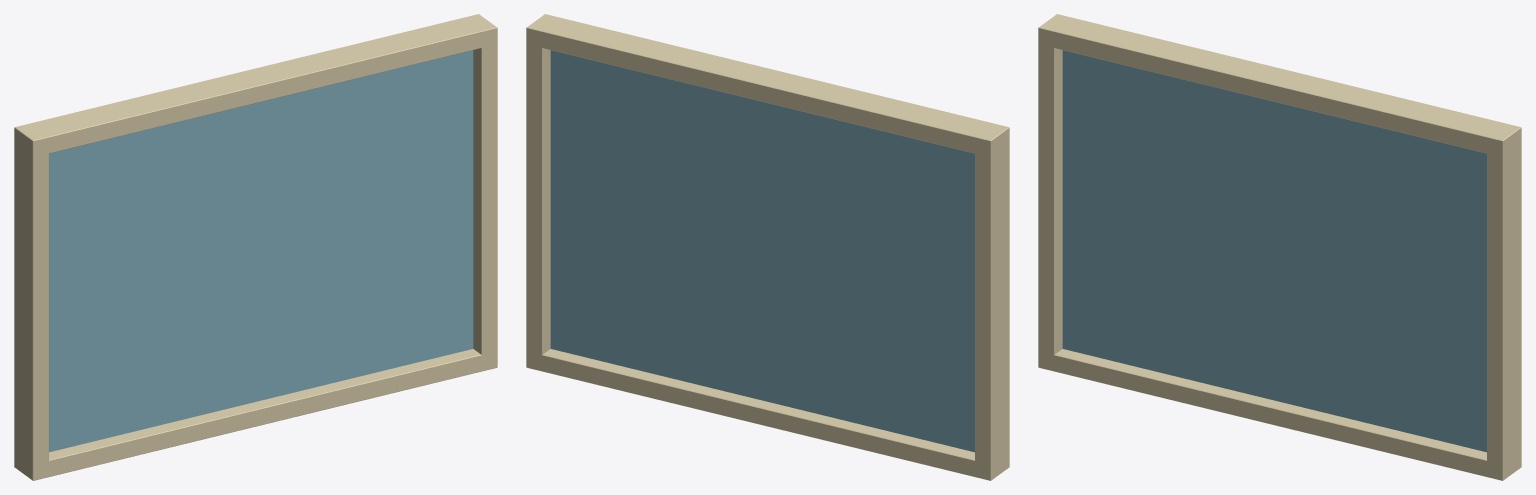
File: b21_window_fixed_2m.glb
The picture shows the model from 3 angles, left to right: view 1: azimuth 30°, elevation 25°; view 2: azimuth 150°, elevation 25°; view 3: azimuth 330°, elevation 25°; orthographic projection.
Visible parts, largest first — view 1: b21_window_fixed_2m; view 2: b21_window_fixed_2m; view 3: b21_window_fixed_2m.
Part boxes in pixels (x1,y1,x2,y2): b21_window_fixed_2m: [14, 14, 497, 480]; b21_window_fixed_2m: [526, 14, 1009, 480]; b21_window_fixed_2m: [1038, 14, 1521, 480].
Bounding box in the file's own units: 2 × 1.4 × 0.14.
